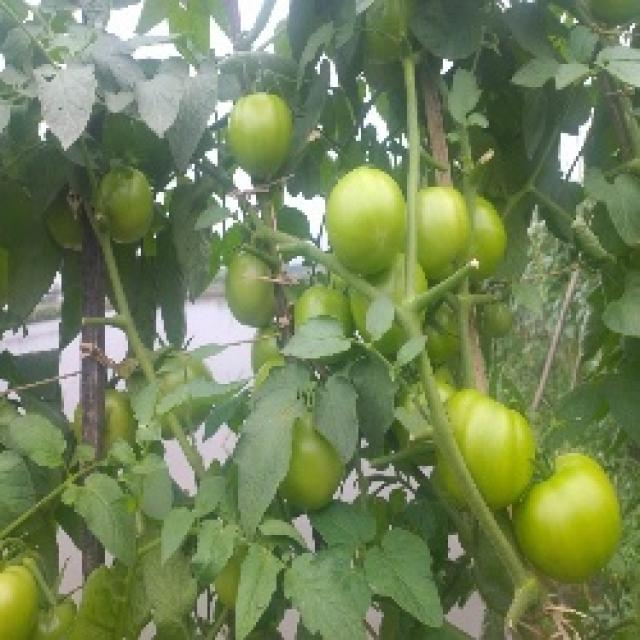tomato: (515, 447, 618, 578), (325, 170, 417, 279), (216, 96, 300, 192), (460, 388, 533, 497), (285, 418, 345, 509), (95, 164, 153, 245), (221, 249, 278, 331), (416, 191, 475, 270), (1, 549, 52, 638), (288, 282, 362, 328), (100, 388, 141, 463), (469, 193, 508, 270), (150, 362, 214, 396), (377, 3, 417, 56), (51, 200, 85, 252), (245, 328, 283, 371), (37, 589, 71, 633), (433, 300, 455, 365), (479, 304, 521, 338), (584, 1, 638, 21)
